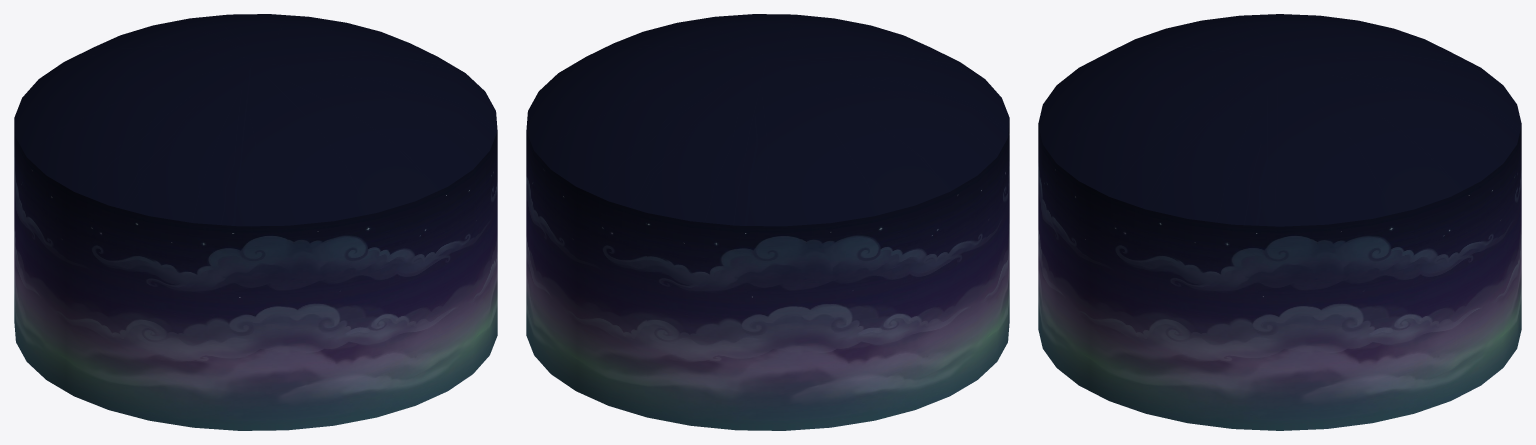
The model's file is Sky.glb.
The picture shows the model from 3 angles, left to right: view 1: azimuth 30°, elevation 25°; view 2: azimuth 150°, elevation 25°; view 3: azimuth 270°, elevation 25°; orthographic projection.
Parts seen in each view (by area): view 1: Sky; view 2: Sky; view 3: Sky.
Part boxes in pixels (x1=…): Sky: x1=14, y1=14, x2=497, y2=430; Sky: x1=526, y1=14, x2=1009, y2=430; Sky: x1=1038, y1=14, x2=1521, y2=430.
Size of what is drawn, in the model's own units: 156 by 95.66 by 156.
Materials: 1 (1 with a texture image).
